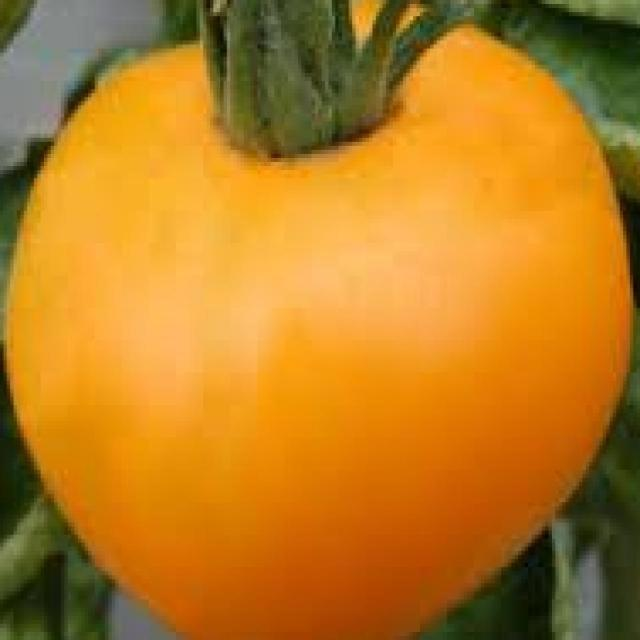Healthy Fruit: (3, 9, 424, 427)
